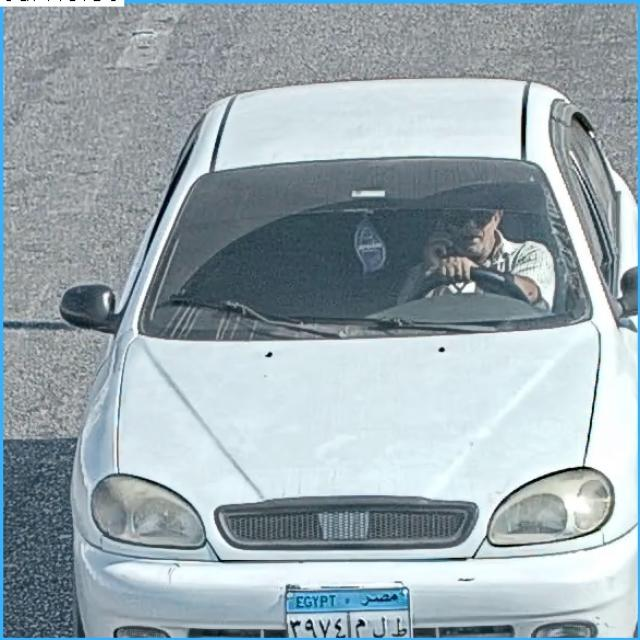windshield: (122, 166, 579, 332)
